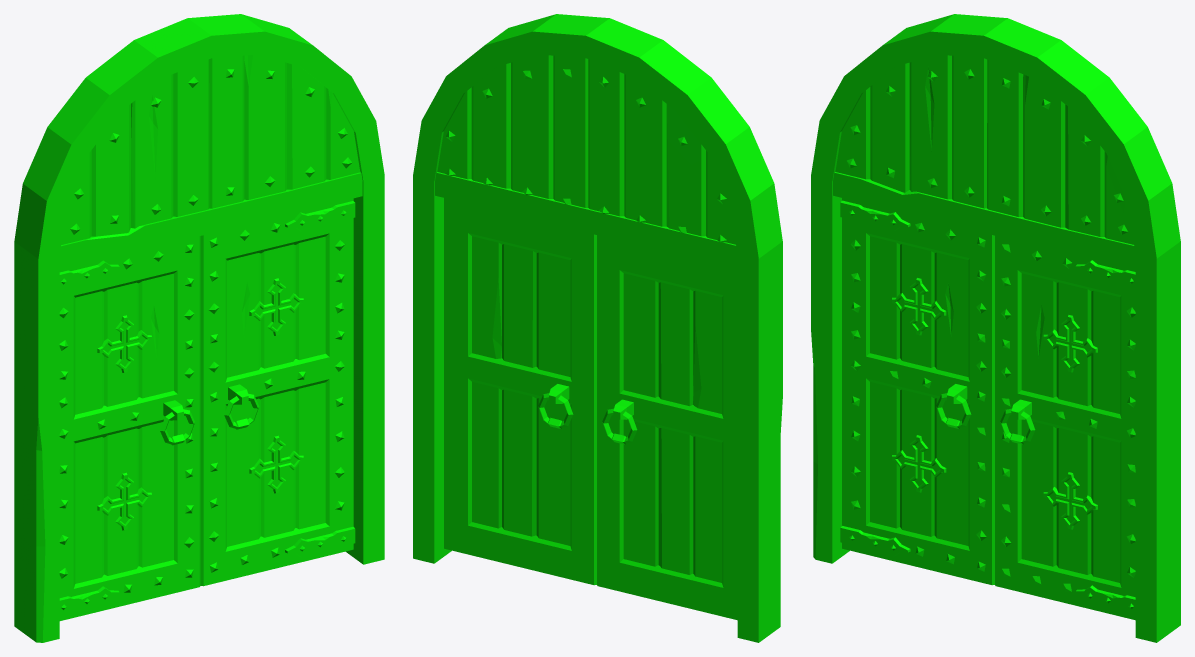
The model's file is SM_Door_Double_A_Regular_Fantasy.fbx.
The picture shows the model from 3 angles, left to right: view 1: azimuth 30°, elevation 25°; view 2: azimuth 150°, elevation 25°; view 3: azimuth 330°, elevation 25°; orthographic projection.
Visible parts, largest first — view 1: door-double-a-regular-fantasy-frame, door-double-a-regular-fantasy-door-r, door-double-a-regular-fantasy-door-l; view 2: door-double-a-regular-fantasy-frame, door-double-a-regular-fantasy-door-r, door-double-a-regular-fantasy-door-l; view 3: door-double-a-regular-fantasy-frame, door-double-a-regular-fantasy-door-l, door-double-a-regular-fantasy-door-r.
Boxes of the visible parts, x1,y1,x2,y2 form: door-double-a-regular-fantasy-frame: (14, 14, 384, 642); door-double-a-regular-fantasy-door-r: (200, 198, 355, 586); door-double-a-regular-fantasy-door-l: (59, 236, 200, 620); door-double-a-regular-fantasy-frame: (413, 14, 782, 642); door-double-a-regular-fantasy-door-r: (444, 198, 596, 585); door-double-a-regular-fantasy-door-l: (597, 235, 737, 620); door-double-a-regular-fantasy-frame: (811, 14, 1180, 642); door-double-a-regular-fantasy-door-l: (840, 198, 994, 585); door-double-a-regular-fantasy-door-r: (995, 235, 1135, 620).
Size of the model in its own units: 2.28 by 3.56 by 0.3077.
